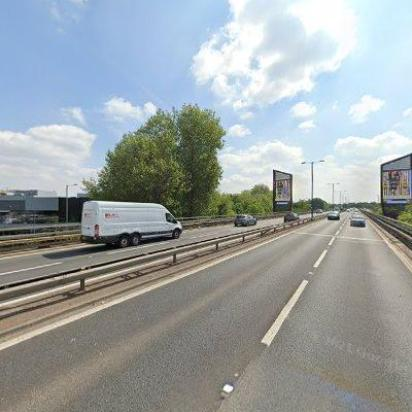moving-car: (233, 212, 256, 226), (349, 212, 365, 228), (284, 211, 302, 223), (327, 210, 339, 220), (315, 208, 323, 214)
moving-light-truck: (79, 197, 182, 246)
